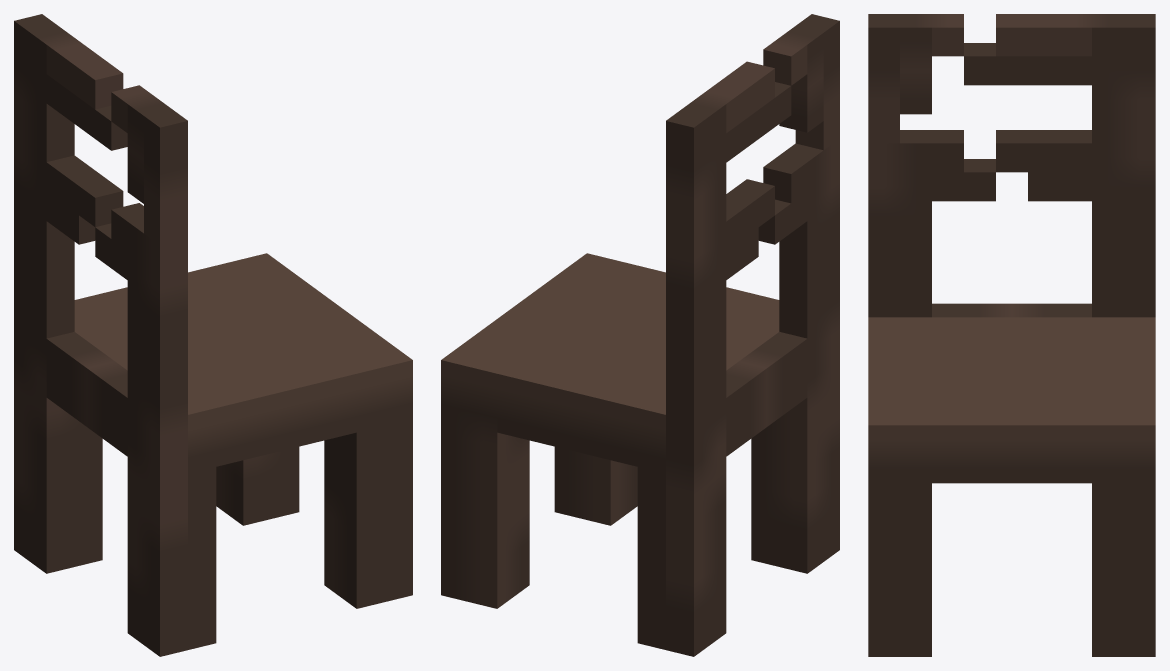
Rendered from Chair_Wooden-4_00.fbx.
The picture shows the model from 3 angles, left to right: view 1: azimuth 30°, elevation 25°; view 2: azimuth 150°, elevation 25°; view 3: azimuth 270°, elevation 25°; orthographic projection.
Visible parts, largest first — view 1: Chair_Wooden-4_00; view 2: Chair_Wooden-4_00; view 3: Chair_Wooden-4_00.
Part boxes in pixels (x1,y1,x2,y2): Chair_Wooden-4_00: (14,14,412,656); Chair_Wooden-4_00: (441,14,839,656); Chair_Wooden-4_00: (868,14,1155,656).
Bounding box in the file's own units: 45 × 90 × 45.
